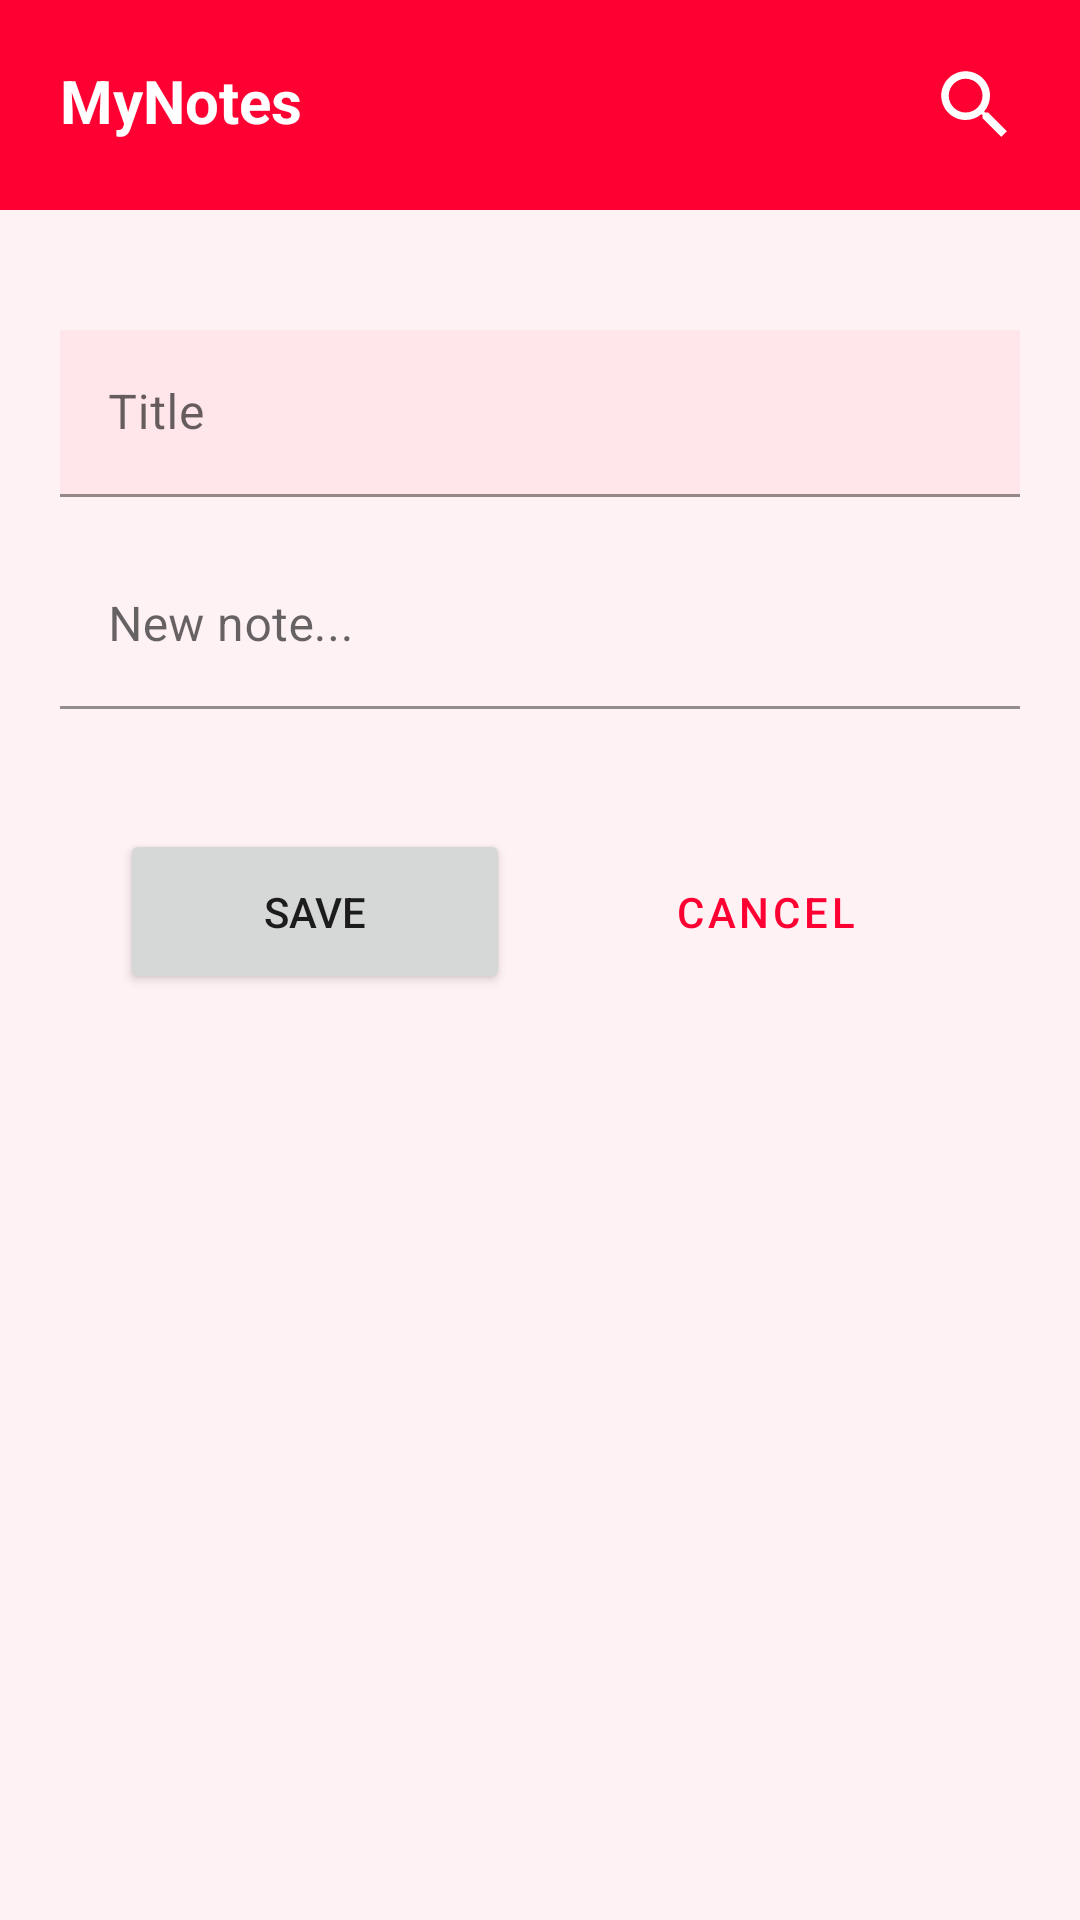

Point at icon controls on the screen. Image size 1080px×1920px, points as point (x, y).
search: point (974, 104)
